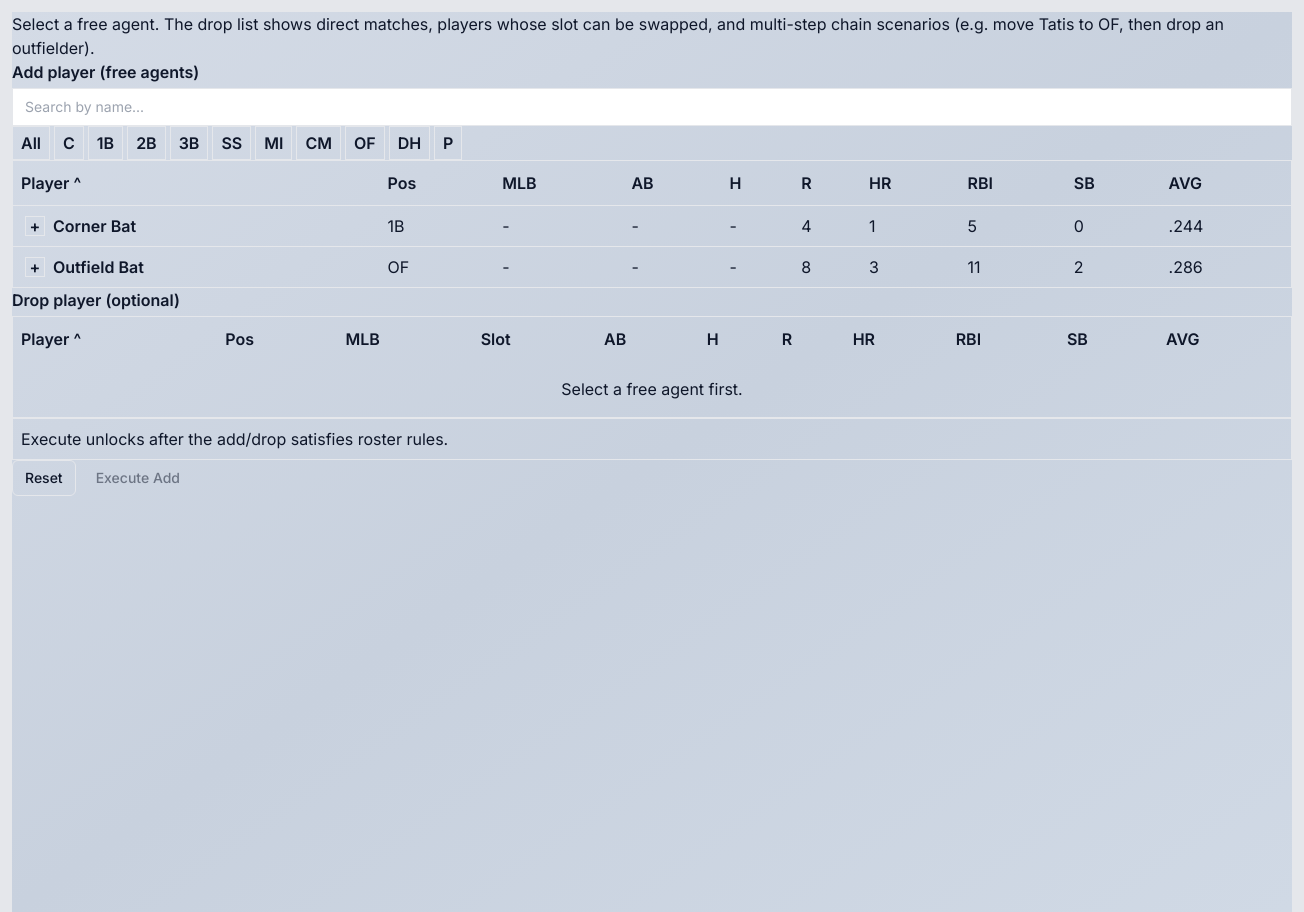
Test: AddDropPanel — free-agent stats, filters, and sorting › shows stats in the free-agent table and filters by outfield position
The image size is (1304, 912).
expect the text "Outfield Bat" is shown: met, box [53,255,144,279]
expect the text ".286" is shown: met, box [1160,246,1291,287]
Click the button "OF" at coordinates (365, 143), box [345,126,385,160]
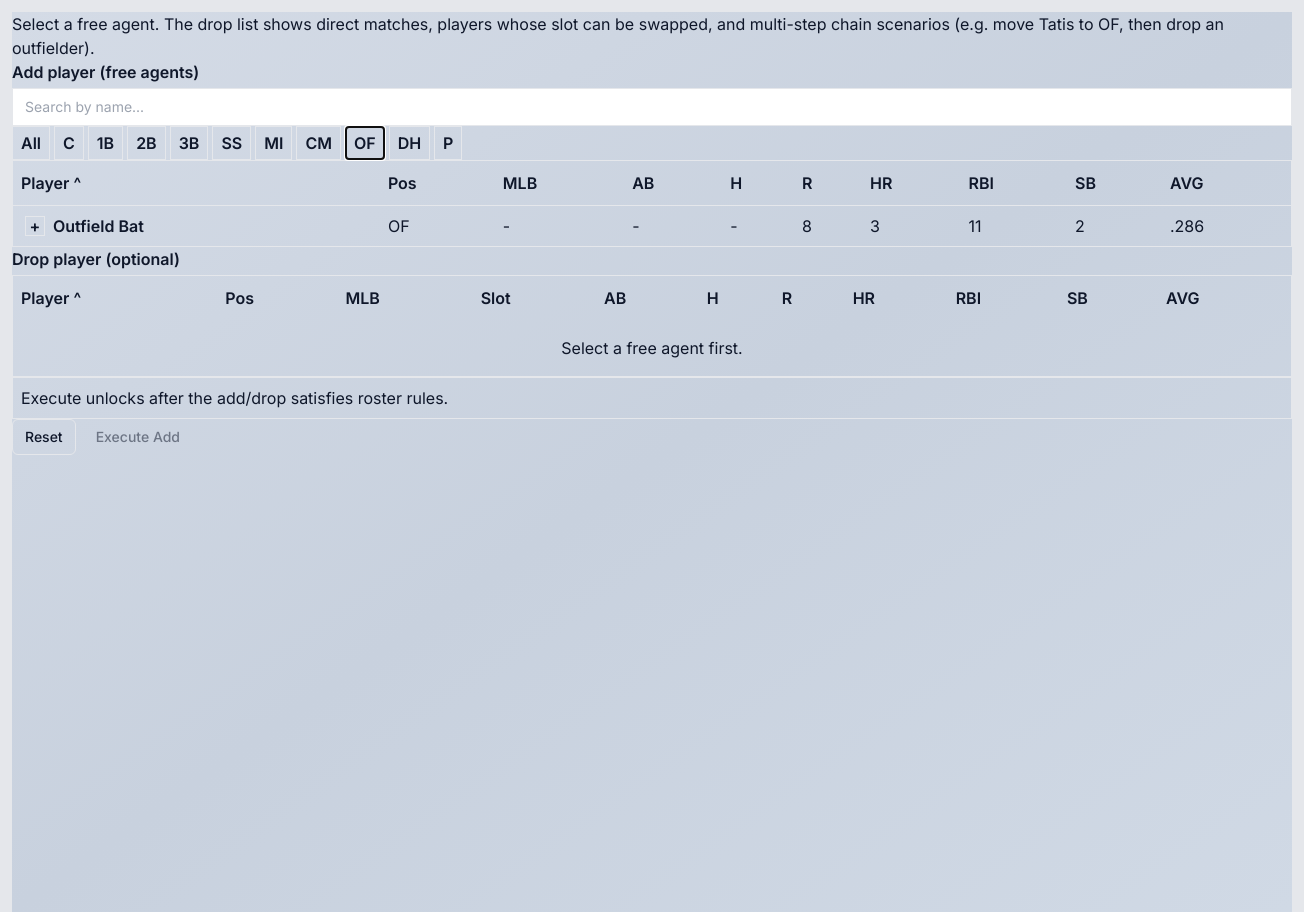
expect the text "Outfield Bat" is shown: met, box [53,214,144,238]
expect the text "Corner Bat" is gone: met
